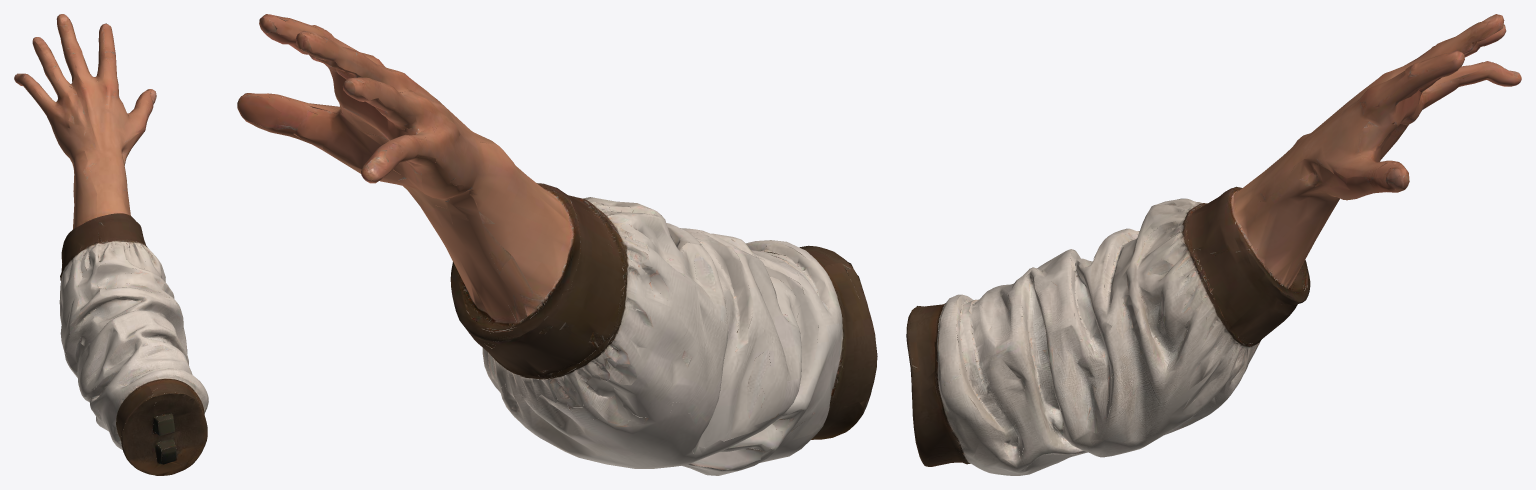
Rendered from first-person-right-arm.glb.
The picture shows the model from 3 angles, left to right: view 1: azimuth 30°, elevation 25°; view 2: azimuth 150°, elevation 25°; view 3: azimuth 270°, elevation 25°; orthographic projection. The views are drawn at different scales.
Visible parts, largest first — view 1: Mesh_0; view 2: Mesh_0; view 3: Mesh_0.
Part boxes in pixels (x1=…): Mesh_0: x1=14, y1=14, x2=208, y2=475; Mesh_0: x1=237, y1=14, x2=877, y2=475; Mesh_0: x1=906, y1=14, x2=1521, y2=475.
Bounding box in the file's own units: 1.01 × 1.71 × 1.9.
Materials: 1 (1 with a texture image).
